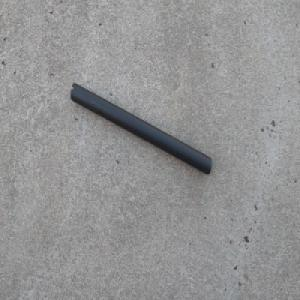LuggagePart: (69, 81, 212, 176)
